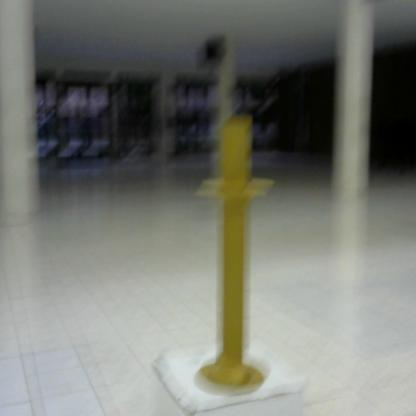pole: (192, 109, 278, 400)
